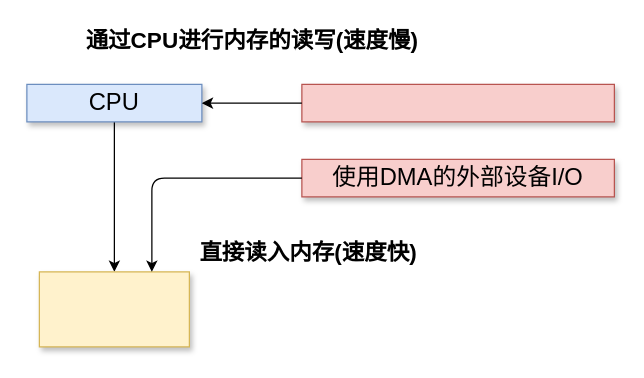
The diagram is 644 pixels wide and 378 high, and some of its shapes have lost their labels. Here are the shapes that lost their labels. From the top down, the centre of each, then its label:
the point at 459,104: 不使用DMA的外部设备I/O
the point at 115,311: 内存
